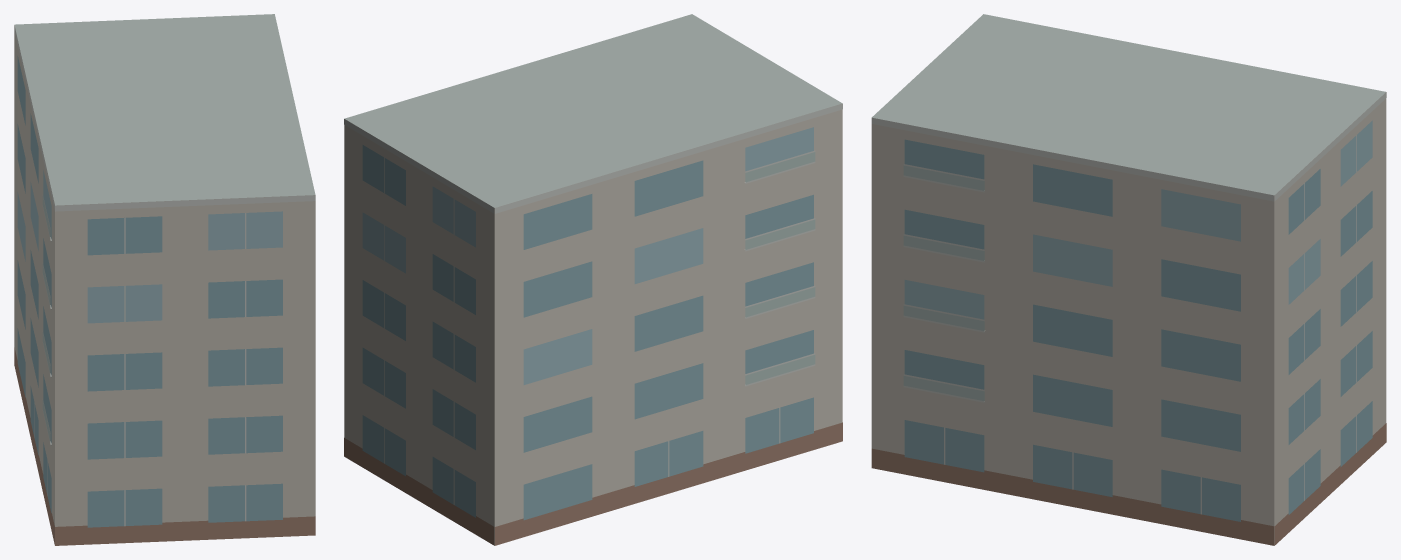
Rendered from survey-upis-32672099.glb.
3 views of the same model, side by side, from view 1: azimuth 30°, elevation 25°; view 2: azimuth 150°, elevation 25°; view 3: azimuth 270°, elevation 25° (orthographic). The views are drawn at different scales.
Visible parts, largest first — view 1: survey-upis-32672099.tmp; view 2: survey-upis-32672099.tmp; view 3: survey-upis-32672099.tmp.
Part boxes in pixels (box(x1,y1,x2,y2)): survey-upis-32672099.tmp: box(14, 14, 315, 545); survey-upis-32672099.tmp: box(344, 14, 842, 545); survey-upis-32672099.tmp: box(871, 14, 1386, 545).
Bounding box in the file's own units: 15.33 × 13.8 × 18.38.
